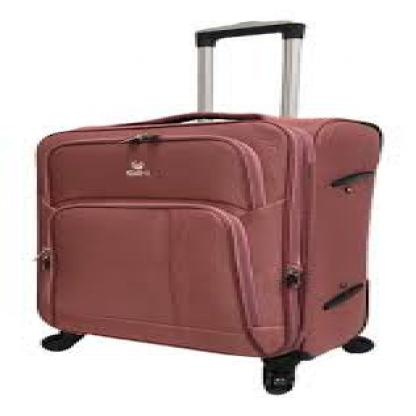maleta: (21, 110, 382, 395)
